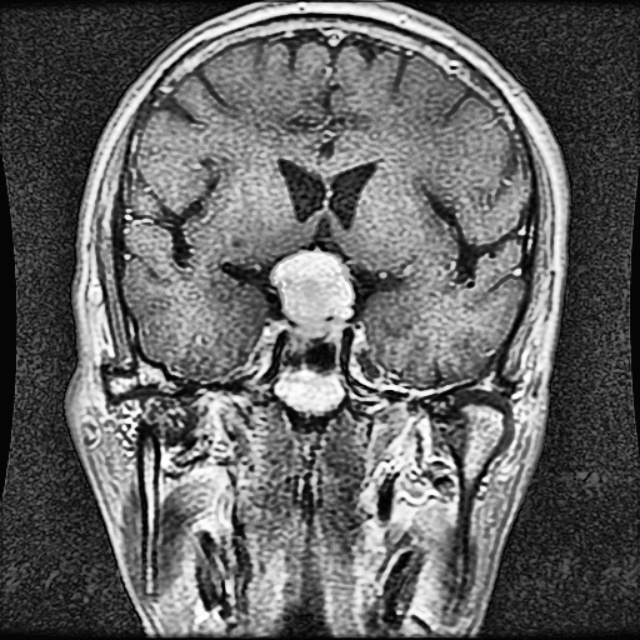Glioma: (269, 252, 353, 327)
